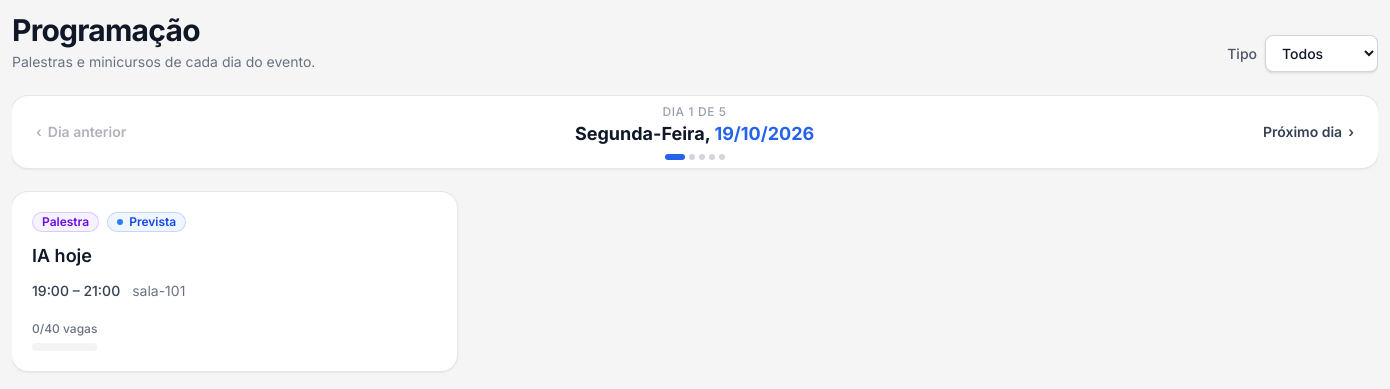
ProgramacaoPorDia › filtra por tipo ao escolher no seletor
Check: the text "IA hoje" is shown, box top-left (32, 244), bottom-right (92, 269)
Select "Minicurso" in the dropdown labelled "Tipo" at (1322, 54), box top-left (1265, 35), bottom-right (1378, 72)
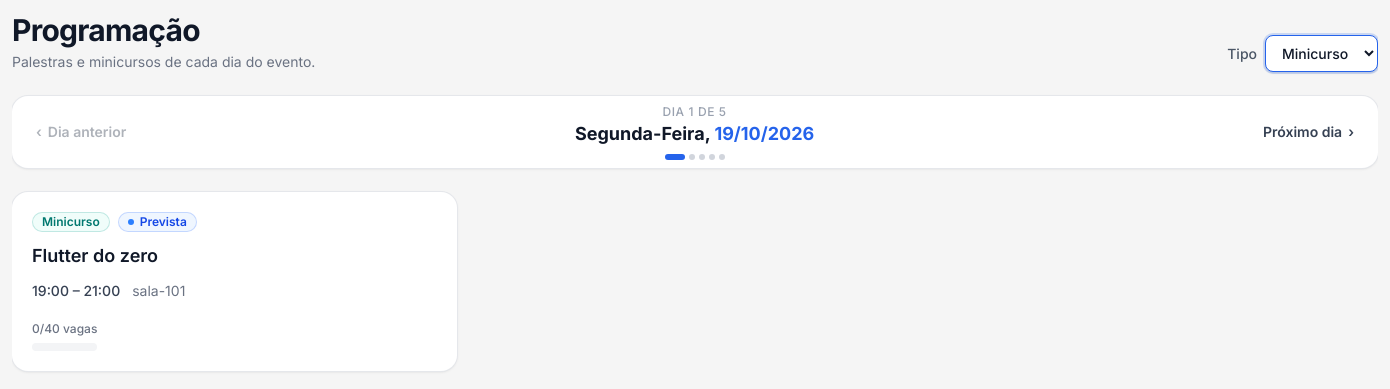
Check: the text "Flutter do zero" is shown, box top-left (32, 244), bottom-right (158, 269)
